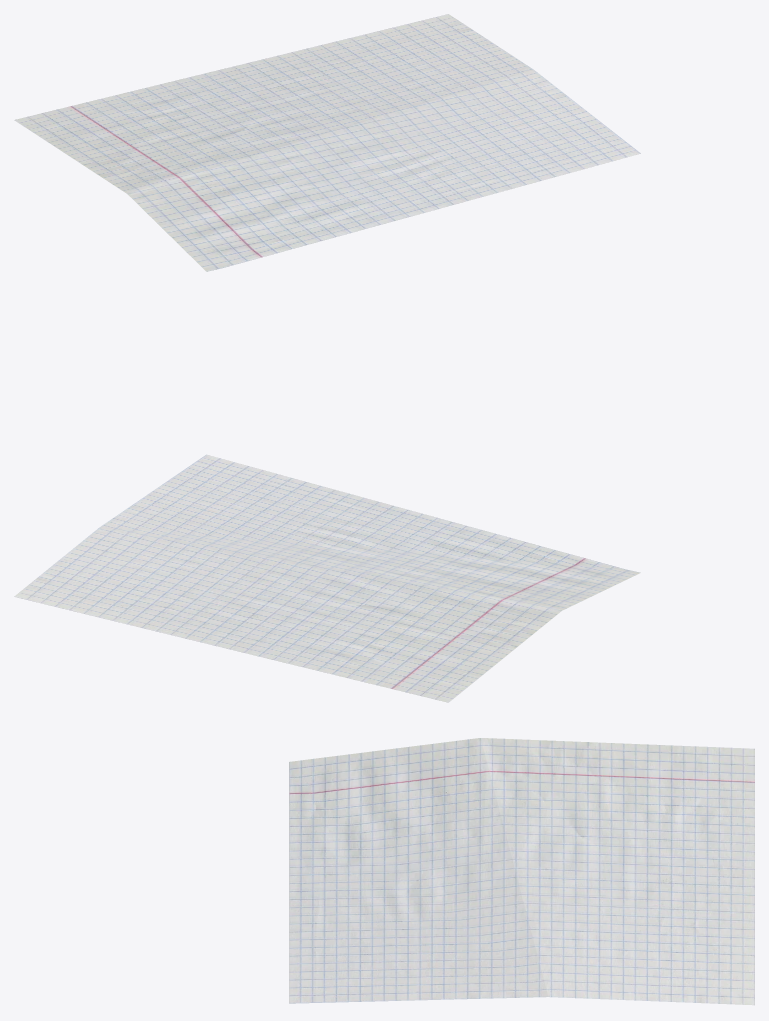
The model's file is Note.fbx.
The picture shows the model from 3 angles, top to bottom: view 1: azimuth 30°, elevation 25°; view 2: azimuth 150°, elevation 25°; view 3: azimuth 270°, elevation 25°; orthographic projection. The views are drawn at different scales.
Parts seen in each view (by area): view 1: note; view 2: note; view 3: note.
Part boxes in pixels (x1,y1,x2,y2): note: [14, 14, 640, 271]; note: [14, 454, 640, 702]; note: [289, 738, 754, 1005].
Bounding box in the file's own units: 112 × 6.49 × 137.
1 material, 1 textured.
